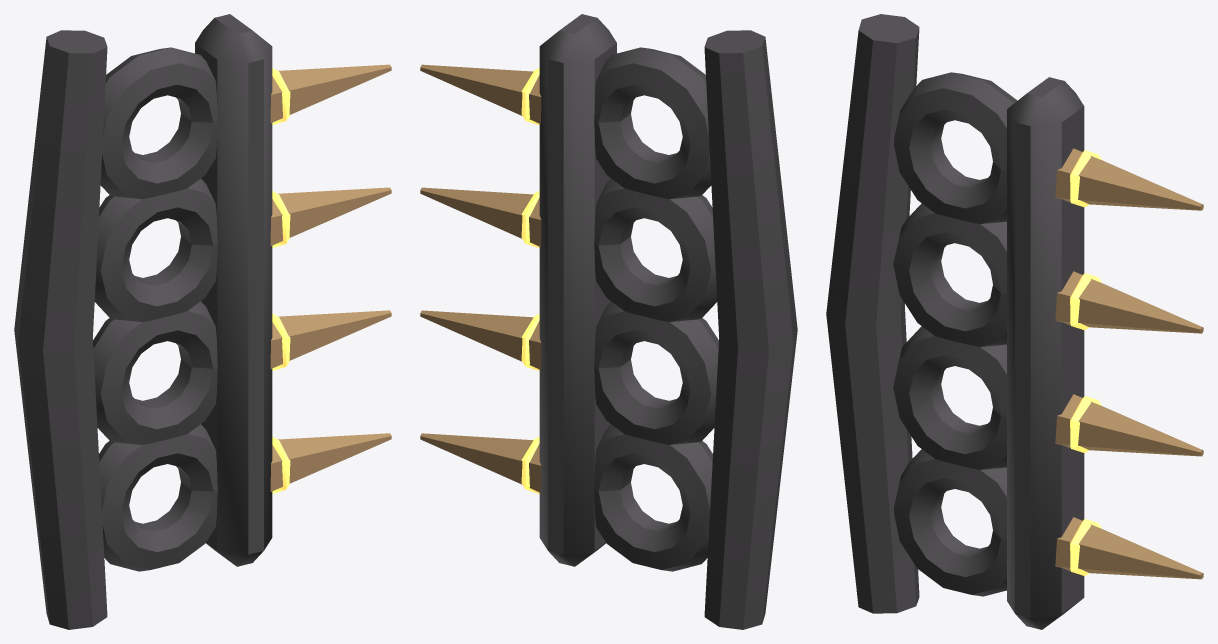
The model's file is emberknuckles.glb.
3 views of the same model, side by side, from view 1: azimuth 30°, elevation 25°; view 2: azimuth 150°, elevation 25°; view 3: azimuth 330°, elevation 25° (orthographic).
Visible parts, largest first — view 1: emberknuckles; view 2: emberknuckles; view 3: emberknuckles.
Boxes of the visible parts, left/top/right/bottom form: emberknuckles: left=14, top=14, right=391, bottom=629; emberknuckles: left=420, top=14, right=797, bottom=629; emberknuckles: left=826, top=14, right=1203, bottom=629.
Size of the model in its own units: 0.095 by 0.1412 by 0.02.
